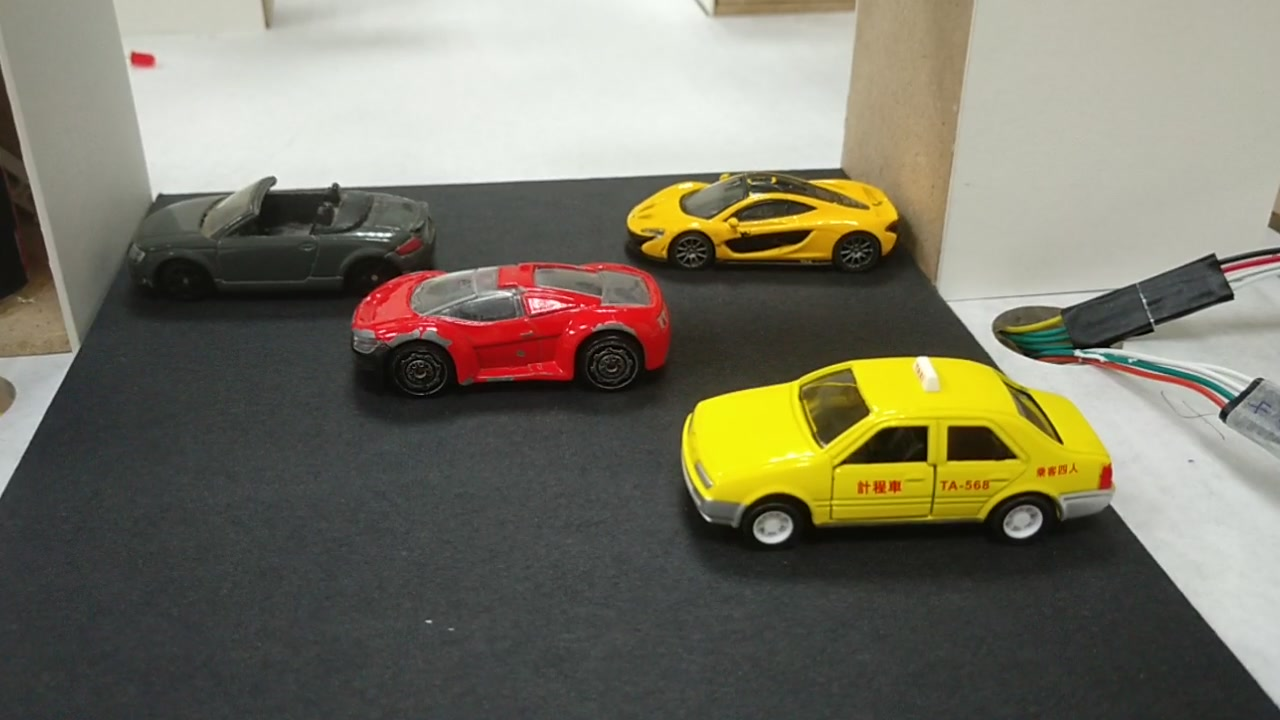car: (686, 367, 1118, 537), (349, 263, 669, 386), (628, 175, 898, 267), (139, 196, 437, 279)
